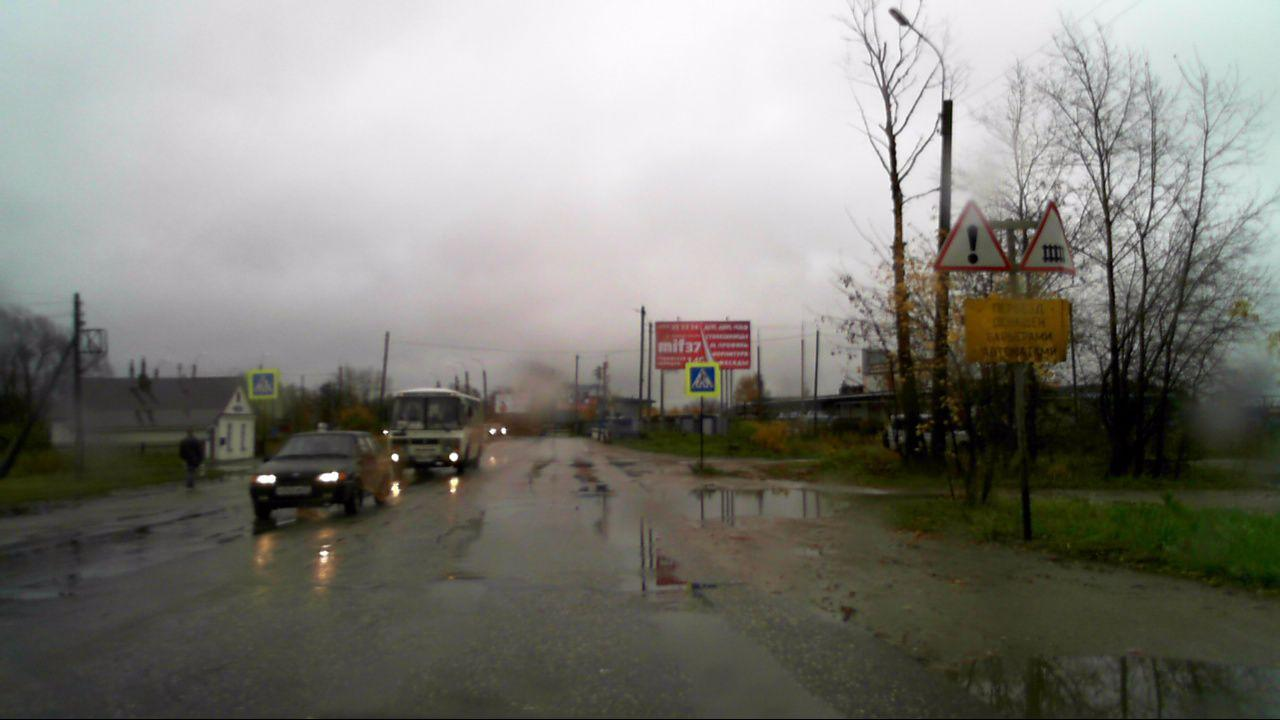1_1: (1018, 201, 1076, 273)
1_33: (935, 200, 1011, 273)
5_19_1: (686, 366, 716, 394)
5_19_2: (252, 374, 276, 398)
